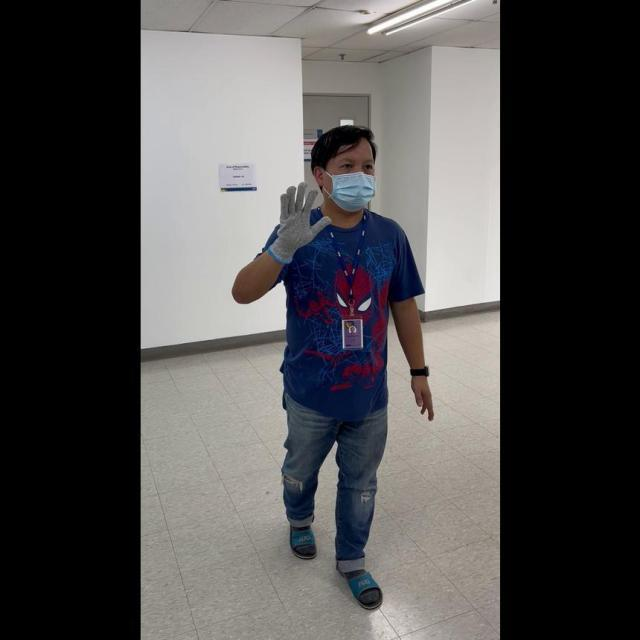bare_hand: (408, 368, 432, 422)
gloved_hand: (264, 181, 330, 262)
